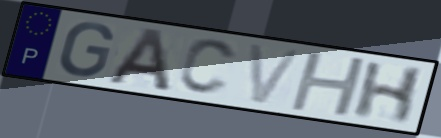A: (103, 26, 174, 94)
C: (175, 37, 239, 98)
G: (56, 21, 116, 79)
H: (286, 51, 370, 119), (349, 60, 428, 126)
V: (246, 41, 305, 106)
